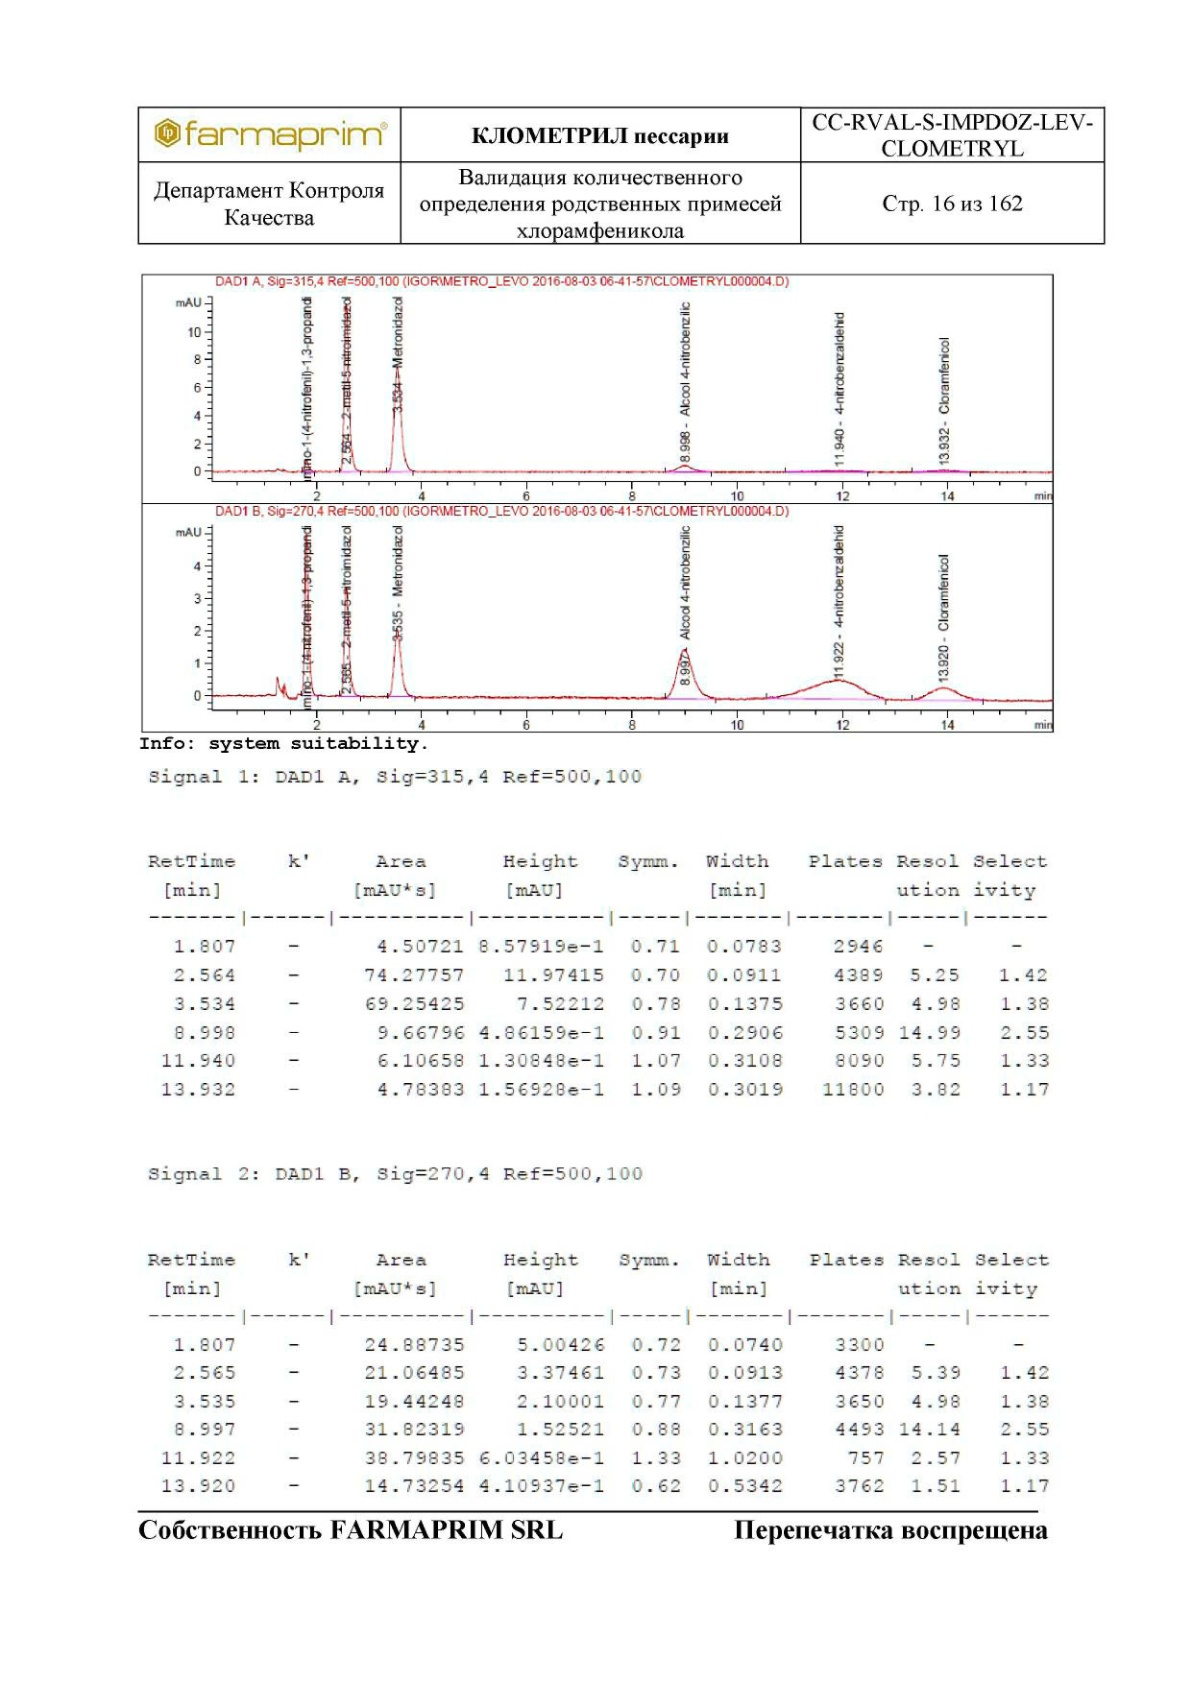full_lined: (135, 103, 1108, 248)
partial_lined: (142, 847, 1057, 1105), (142, 1246, 1058, 1501)
